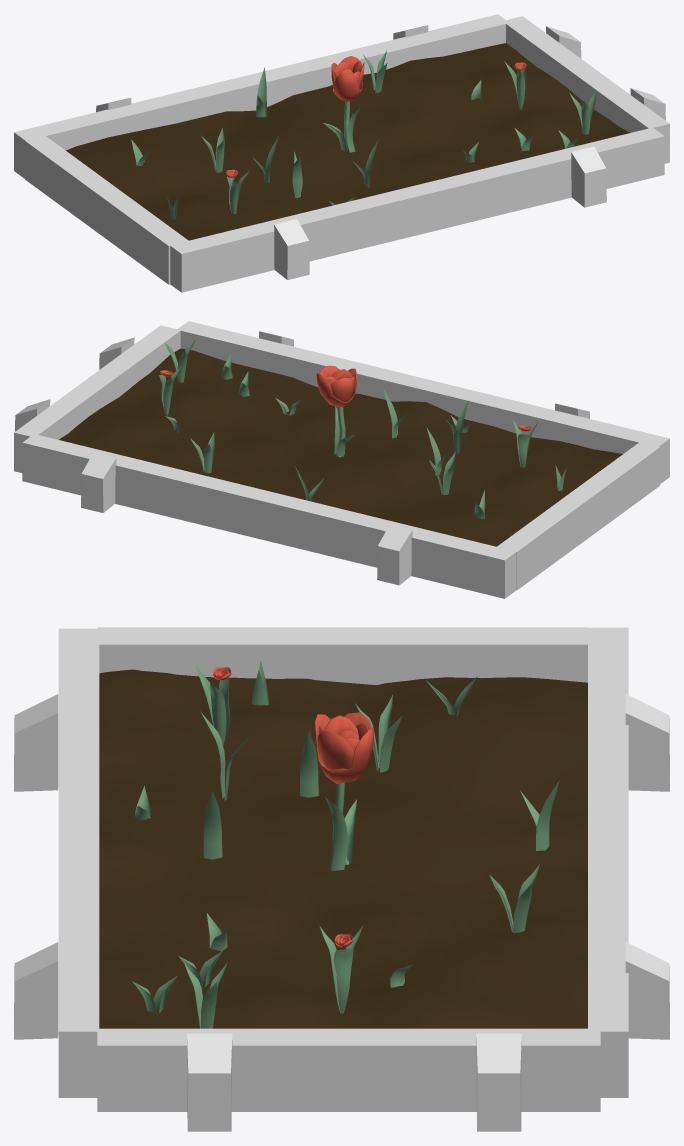
The model's file is Moestuin.fbx.
3 views of the same model, one above another, from view 1: azimuth 30°, elevation 25°; view 2: azimuth 150°, elevation 25°; view 3: azimuth 270°, elevation 25° (orthographic). The views are drawn at different scales.
Visible parts, largest first — view 1: Cube.008, Cube.009, Cube.005, Cube.007, Cube.006, Cube.013, Cube.086, Cube.088, Cube.010, Cube.011; view 2: Cube.008, Cube.005, Cube.009, Cube.007, Cube.006, Cube.012, Cube.016, Cube.088, Cube.010, Cube.011; view 3: Cube.008, Cube.006, Cube.007, Cube.009, Cube.005, Cube.011, Cube.010, Cube.013, Cube.086, Cube.012, Cube.016, Cube.088 (+4 smaller).
Part boxes in pixels (x1,y1,x2,y2): Cube.008: (66,43,629,240); Cube.009: (170,128,664,292); Cube.005: (14,14,509,178); Cube.007: (25,136,188,284); Cube.006: (506,16,669,163); Cube.013: (571,146,606,207); Cube.086: (274,219,309,279); Cube.088: (331,56,364,101); Cube.010: (630,88,665,120); Cube.011: (546,26,581,58); Cube.008: (59,348,622,546); Cube.005: (22,434,516,598); Cube.009: (177,321,669,483); Cube.007: (497,442,660,590); Cube.006: (14,325,180,472); Cube.012: (81,452,116,512); Cube.016: (377,524,412,585); Cube.088: (316,365,356,407); Cube.010: (99,337,134,369); Cube.011: (15,399,50,431); Cube.008: (99,669,587,1028); Cube.006: (97,1028,600,1111); Cube.007: (97,627,588,684); Cube.009: (58,628,99,1097); Cube.005: (588,627,628,1097); Cube.011: (476,1033,521,1131); Cube.010: (187,1033,232,1131); Cube.013: (14,942,58,1039); Cube.086: (14,694,58,791); Cube.012: (625,942,669,1039); Cube.016: (625,694,669,791); Cube.088: (315,712,373,783).
Bounding box in the file's own units: 371 × 72.55 × 235.
